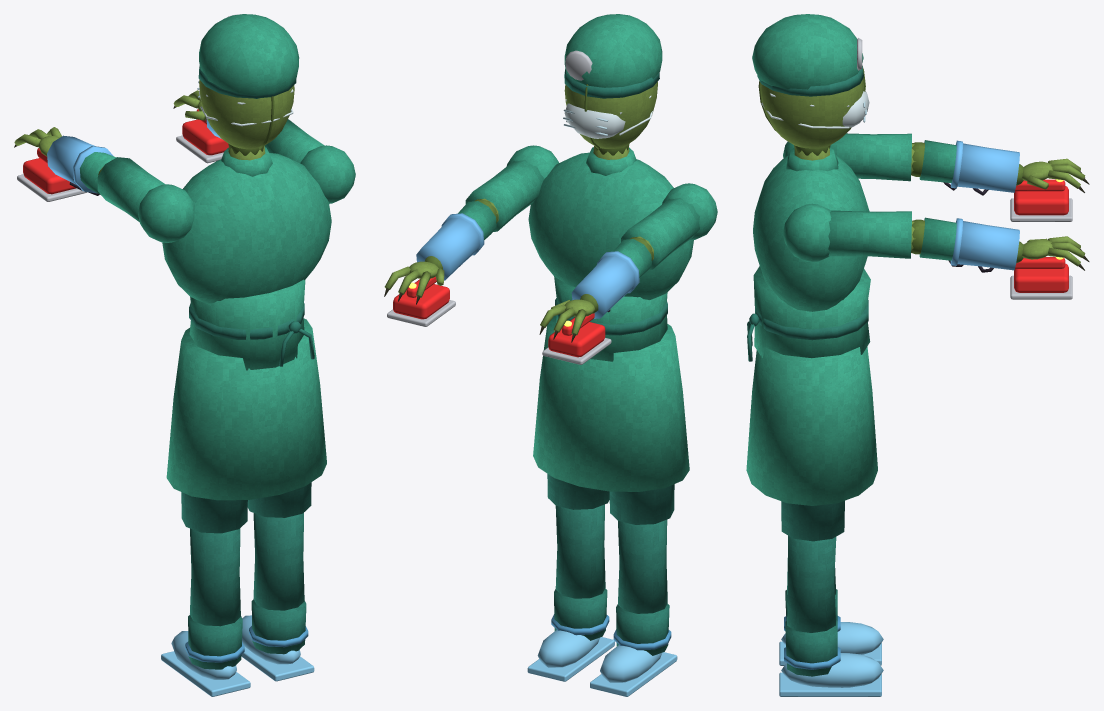
Rendered from z_surgeon.glb.
The picture shows the model from 3 angles, left to right: view 1: azimuth 30°, elevation 25°; view 2: azimuth 150°, elevation 25°; view 3: azimuth 270°, elevation 25°; orthographic projection. The views are drawn at different scales.
Visible parts, largest first — view 1: part_body, part_head, part_kneeL, part_kneeR, part_armL, part_arm, part_legL, part_legR; view 2: part_body, part_head, part_armL, part_arm, part_kneeL, part_kneeR, part_legL, part_legR; view 3: part_body, part_head, part_arm, part_armL, part_kneeR, part_legR, part_kneeL.
Boxes of the visible parts, bbox=[...] form: part_body: bbox=[138, 145, 355, 500]; part_head: bbox=[197, 14, 299, 155]; part_kneeL: bbox=[161, 528, 250, 696]; part_kneeR: bbox=[241, 513, 314, 681]; part_armL: bbox=[14, 127, 165, 221]; part_arm: bbox=[173, 90, 324, 163]; part_legL: bbox=[181, 492, 247, 533]; part_legR: bbox=[247, 482, 311, 517]; part_body: bbox=[506, 145, 717, 491]; part_head: bbox=[563, 14, 662, 155]; part_armL: bbox=[539, 198, 699, 364]; part_arm: bbox=[384, 160, 544, 326]; part_kneeL: bbox=[590, 519, 677, 696]; part_kneeR: bbox=[527, 504, 614, 681]; part_legL: bbox=[609, 484, 674, 524]; part_legR: bbox=[547, 474, 609, 509]; part_body: bbox=[746, 141, 877, 505]; part_head: bbox=[752, 14, 869, 155]; part_arm: bbox=[828, 210, 1089, 299]; part_armL: bbox=[830, 133, 1089, 221]; part_kneeR: bbox=[779, 535, 883, 696]; part_legR: bbox=[781, 500, 844, 541]; part_kneeL: bbox=[779, 558, 883, 665].
Bounding box in the file's own units: 0.66 × 1.97 × 0.935.
Materials: 15 (5 with a texture image).
